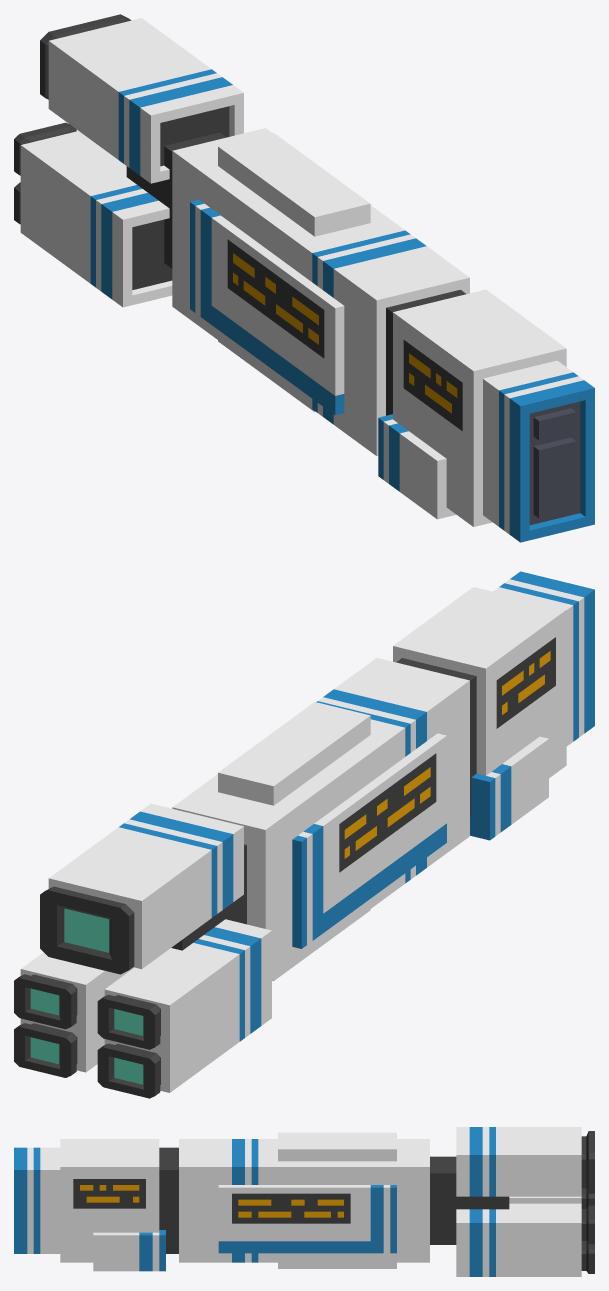
Rendered from Spaceship Cargo.fbx.
3 renders of one model, top to bottom at view 1: azimuth 30°, elevation 25°; view 2: azimuth 150°, elevation 25°; view 3: azimuth 270°, elevation 25°, orthographic. The views are drawn at different scales.
Visible parts, largest first — view 1: block_default_14, block_default_124, block_default_209, block_default_46, block_default_140, block_default_15, block_default_10, block_default_125, block_default_16, block_default_24, block_default_45, block_default_115 (+44 smaller); view 2: block_default_14, block_default_124, block_default_209, engine_large_217, block_default_46, block_default_140, block_default_44, block_default_215, block_default_178, block_default_187, block_default_81, engine_large_176 (+37 smaller); view 3: block_default_14, block_default_174, block_default_209, block_default_124, block_default_86, block_default_46, block_default_45, block_default_93, block_default_16, block_default_91, block_default_28, block_default_119 (+56 smaller).
Part boxes in pixels (left/top/right/bottom): block_default_14: left=172, top=128, right=404, bottom=408; block_default_124: left=218, top=133, right=370, bottom=236; block_default_209: left=75, top=37, right=211, bottom=159; block_default_46: left=403, top=297, right=555, bottom=382; block_default_140: left=47, top=150, right=136, bottom=283; block_default_15: left=462, top=340, right=566, bottom=526; block_default_10: left=360, top=287, right=469, bottom=455; block_default_125: left=333, top=246, right=447, bottom=381; block_default_16: left=483, top=360, right=572, bottom=526; block_default_24: left=533, top=437, right=576, bottom=518; block_default_45: left=403, top=388, right=462, bottom=518; block_default_115: left=399, top=431, right=446, bottom=519; block_default_14: left=172, top=719, right=405, bottom=980; block_default_124: left=218, top=702, right=370, bottom=805; block_default_209: left=76, top=827, right=211, bottom=949; engine_large_217: left=40, top=886, right=134, bottom=974; block_default_46: left=404, top=595, right=555, bottom=679; block_default_140: left=132, top=943, right=239, bottom=1072; block_default_44: left=393, top=638, right=496, bottom=775; block_default_215: left=48, top=866, right=157, bottom=969; block_default_178: left=104, top=977, right=185, bottom=1092; block_default_187: left=20, top=957, right=101, bottom=1072; block_default_81: left=339, top=802, right=436, bottom=901; engine_large_176: left=97, top=994, right=160, bottom=1049; block_default_14: left=258, top=1139, right=429, bottom=1262; block_default_174: left=496, top=1203, right=548, bottom=1276; block_default_209: left=496, top=1127, right=548, bottom=1196; block_default_124: left=278, top=1132, right=396, bottom=1161; block_default_86: left=430, top=1156, right=509, bottom=1244; block_default_46: left=73, top=1139, right=145, bottom=1178; block_default_45: left=73, top=1208, right=145, bottom=1262; block_default_93: left=232, top=1223, right=350, bottom=1241; block_default_16: left=40, top=1147, right=60, bottom=1253; block_default_91: left=218, top=1241, right=370, bottom=1253; block_default_28: left=159, top=1147, right=178, bottom=1253; block_default_119: left=93, top=1232, right=139, bottom=1271.
Size of the model in its own units: 16 by 20 by 88.
